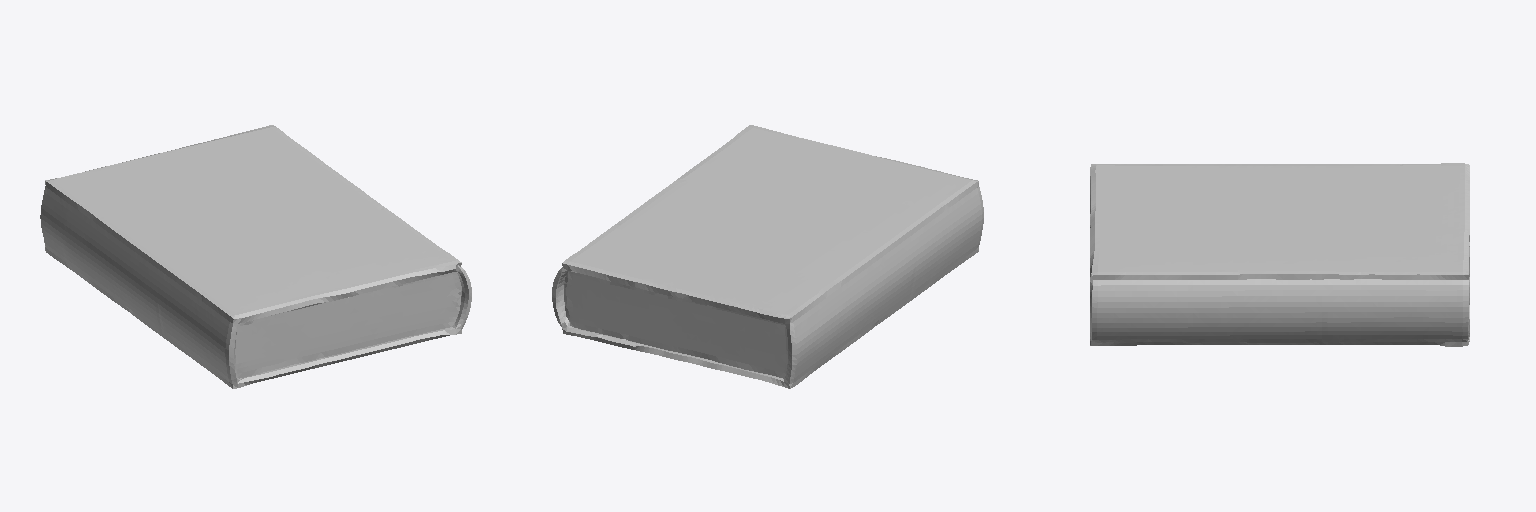
Rendered from book3.obj.
The picture shows the model from 3 angles: view 1: azimuth 30°, elevation 25°; view 2: azimuth 150°, elevation 25°; view 3: azimuth 270°, elevation 25°; orthographic projection.
Visible parts, largest first — view 1: book; view 2: book; view 3: book.
Boxes of the visible parts, <box> form: book: <box>40,125,471,388</box>; book: <box>552,125,983,388</box>; book: <box>1090,163,1469,346</box>.
Bounding box in the file's own units: 1.49 × 0.4189 × 2.